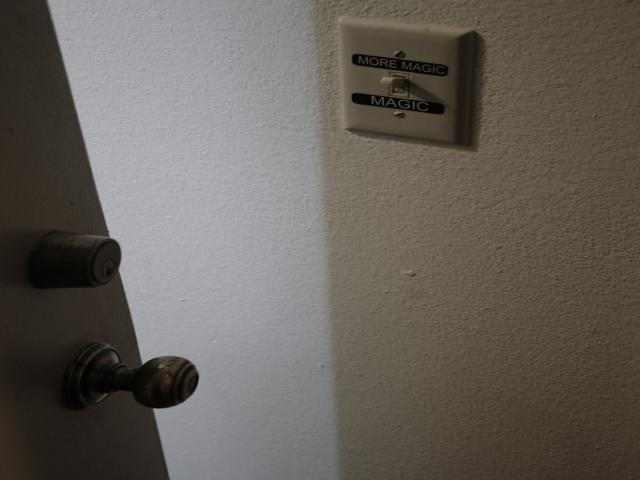Door-handle: (58, 341, 211, 413), (26, 228, 124, 292)
